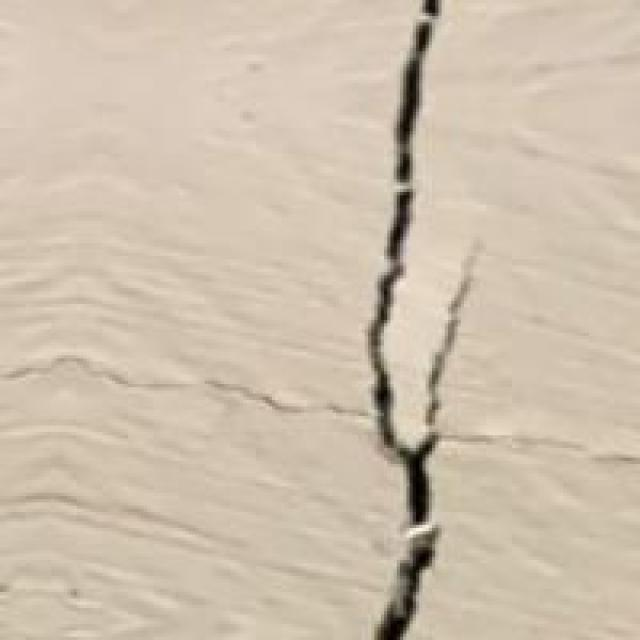Crack: (304, 0, 480, 637)
